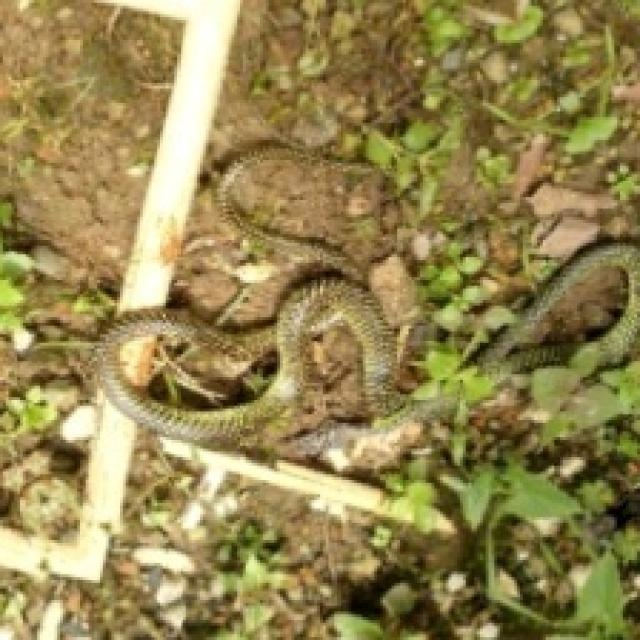paradise tree snake: (97, 146, 637, 471)
